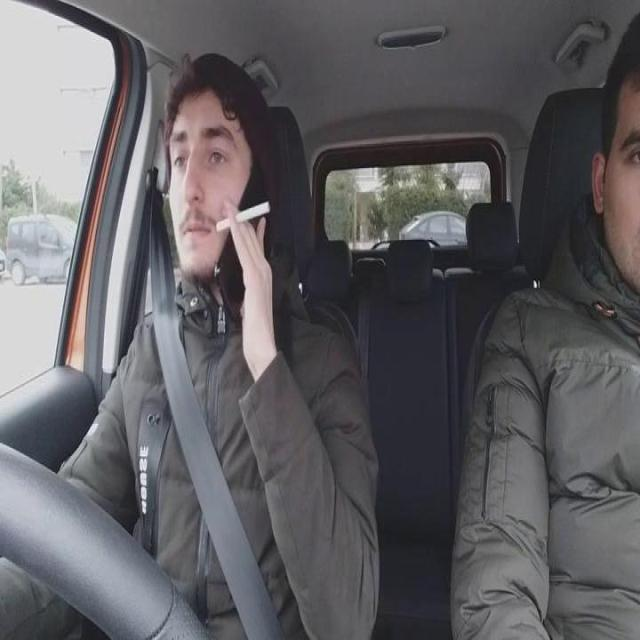phone: (215, 232, 247, 318)
